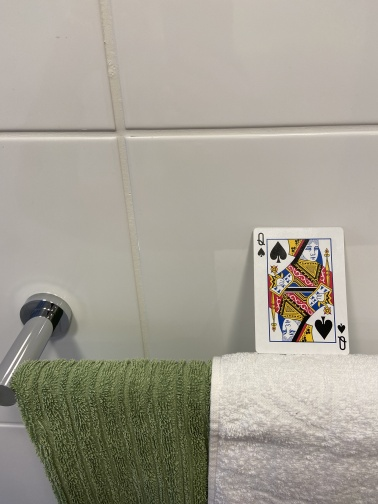queen: (252, 226, 350, 357)
